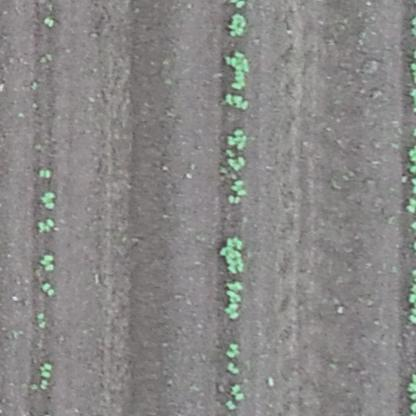vc: (224, 49, 252, 90), (221, 234, 246, 274), (224, 279, 244, 320), (227, 11, 248, 39), (228, 178, 248, 205), (37, 249, 57, 272), (227, 126, 247, 149), (224, 94, 250, 110), (40, 189, 59, 210), (36, 216, 55, 235), (37, 360, 55, 379), (226, 154, 246, 169), (224, 339, 241, 356), (224, 361, 241, 376), (39, 282, 55, 297), (35, 310, 47, 330), (232, 383, 246, 398), (42, 15, 57, 28), (223, 399, 235, 411), (38, 167, 51, 177)
